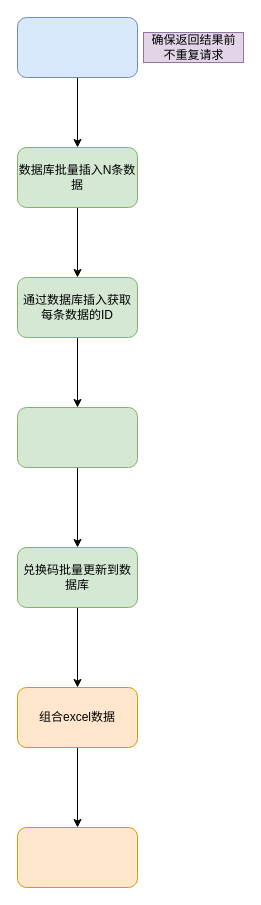
This 261x905 diagram has some shape labels left out. Each missing label, with the centre of its shape:
"前端点击创建批量兑换码" goes at pixel 77 47.
"返回excel文件" goes at pixel 77 857.
"通过ID生成兑换码" goes at pixel 77 437.
